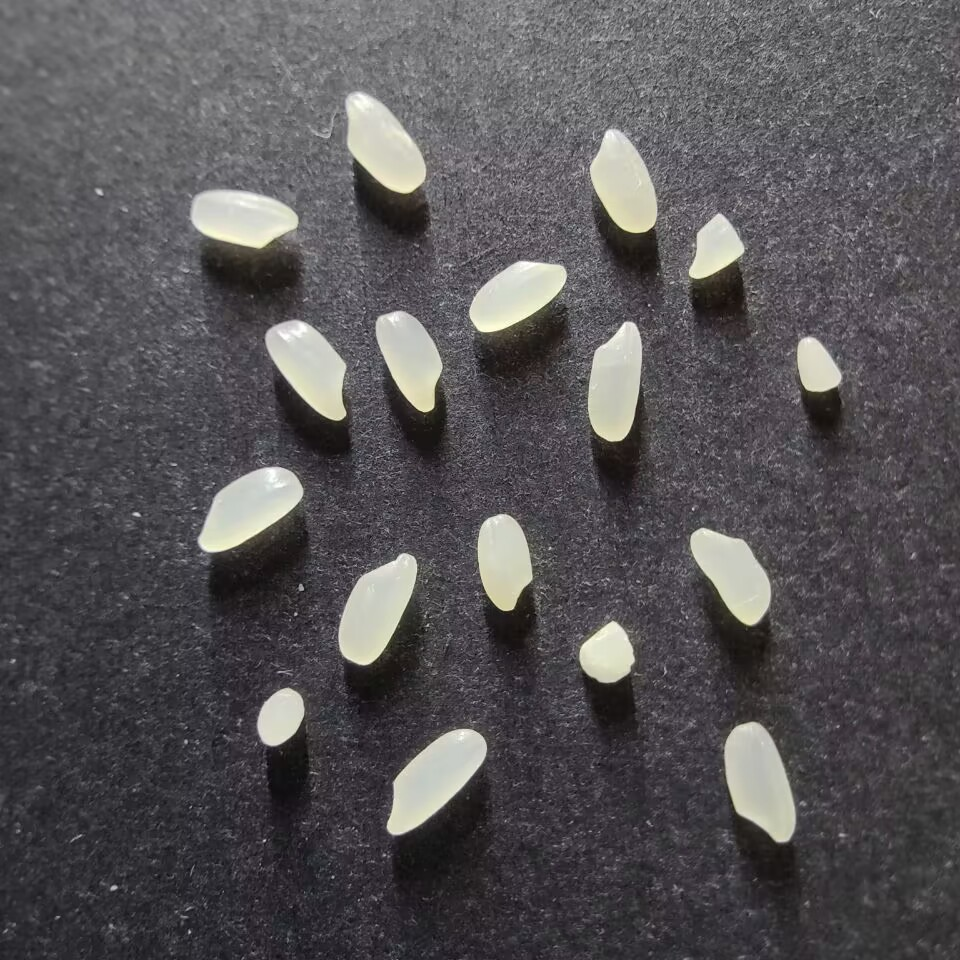broken: (687, 212, 746, 281), (577, 619, 635, 683), (256, 687, 305, 747), (795, 336, 842, 393)
rice: (386, 727, 487, 835), (197, 465, 301, 553), (337, 552, 417, 665), (722, 722, 796, 844), (264, 318, 349, 421), (343, 91, 427, 195), (689, 527, 771, 625), (588, 128, 658, 234), (468, 259, 567, 333), (374, 310, 443, 413), (586, 320, 642, 441), (190, 190, 298, 249), (476, 514, 534, 611)
